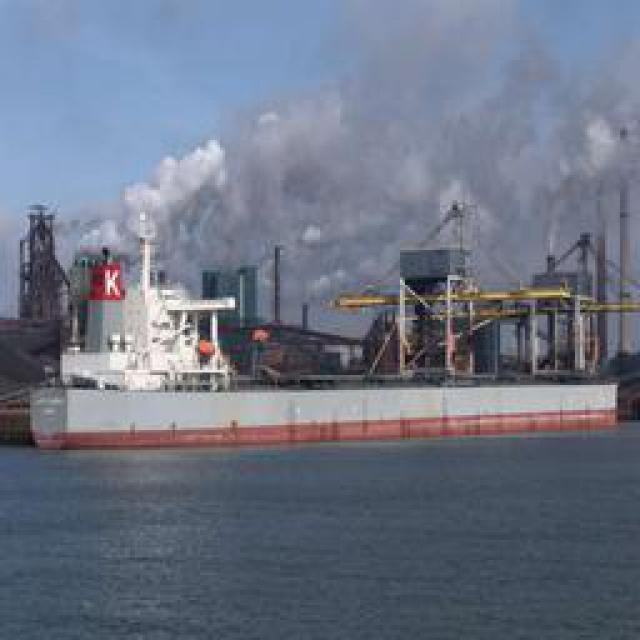Ship: (29, 181, 636, 448)
